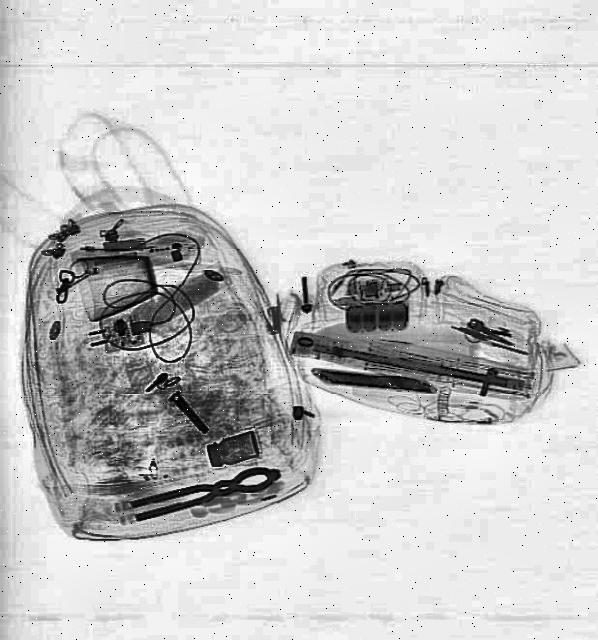Pliers: (128, 461, 280, 521)
